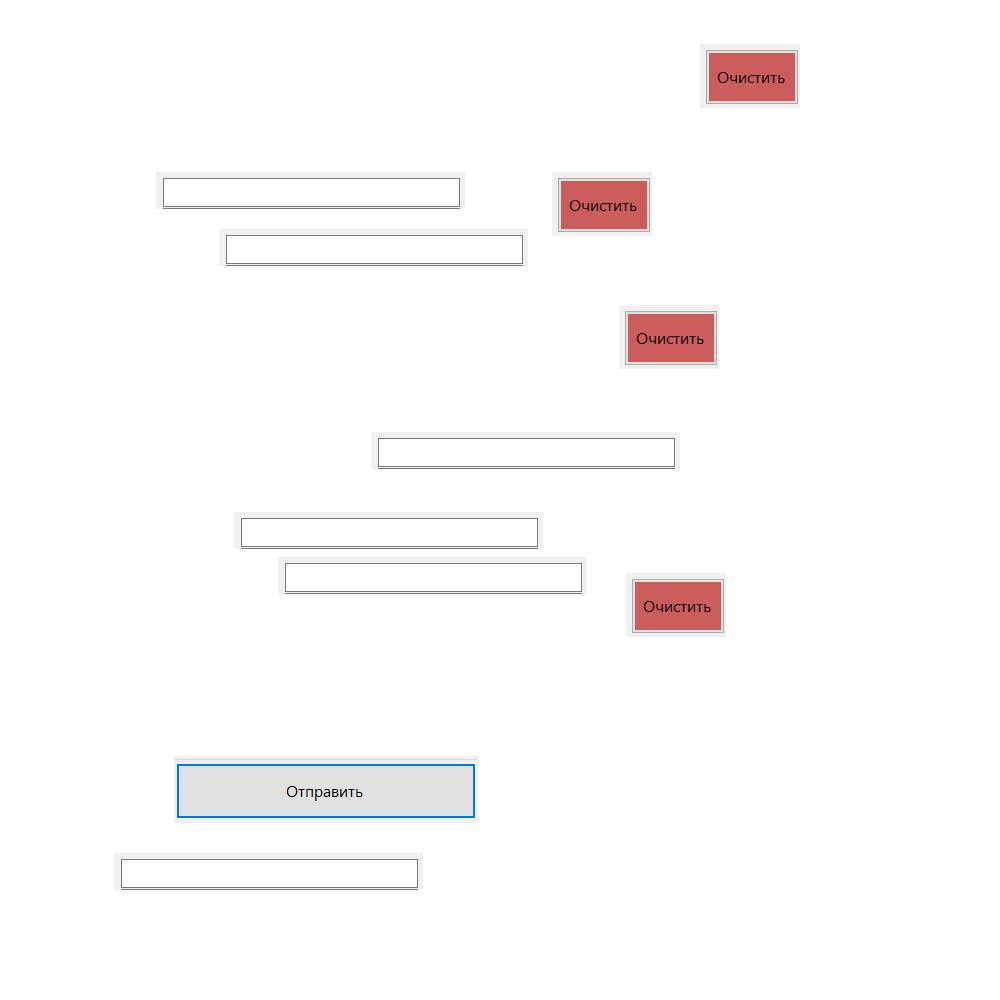Button: (174, 756, 478, 823), (626, 573, 726, 637), (552, 172, 652, 236), (619, 305, 719, 369), (700, 44, 800, 108)
EditText-: (156, 172, 465, 209), (234, 512, 543, 549), (114, 853, 423, 890), (219, 229, 528, 266), (371, 432, 680, 469), (278, 557, 587, 594)
